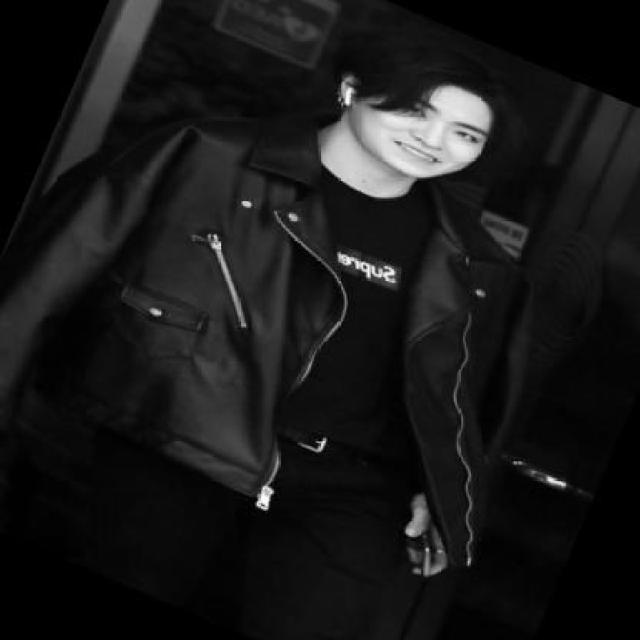earphone: (340, 75, 373, 116)
